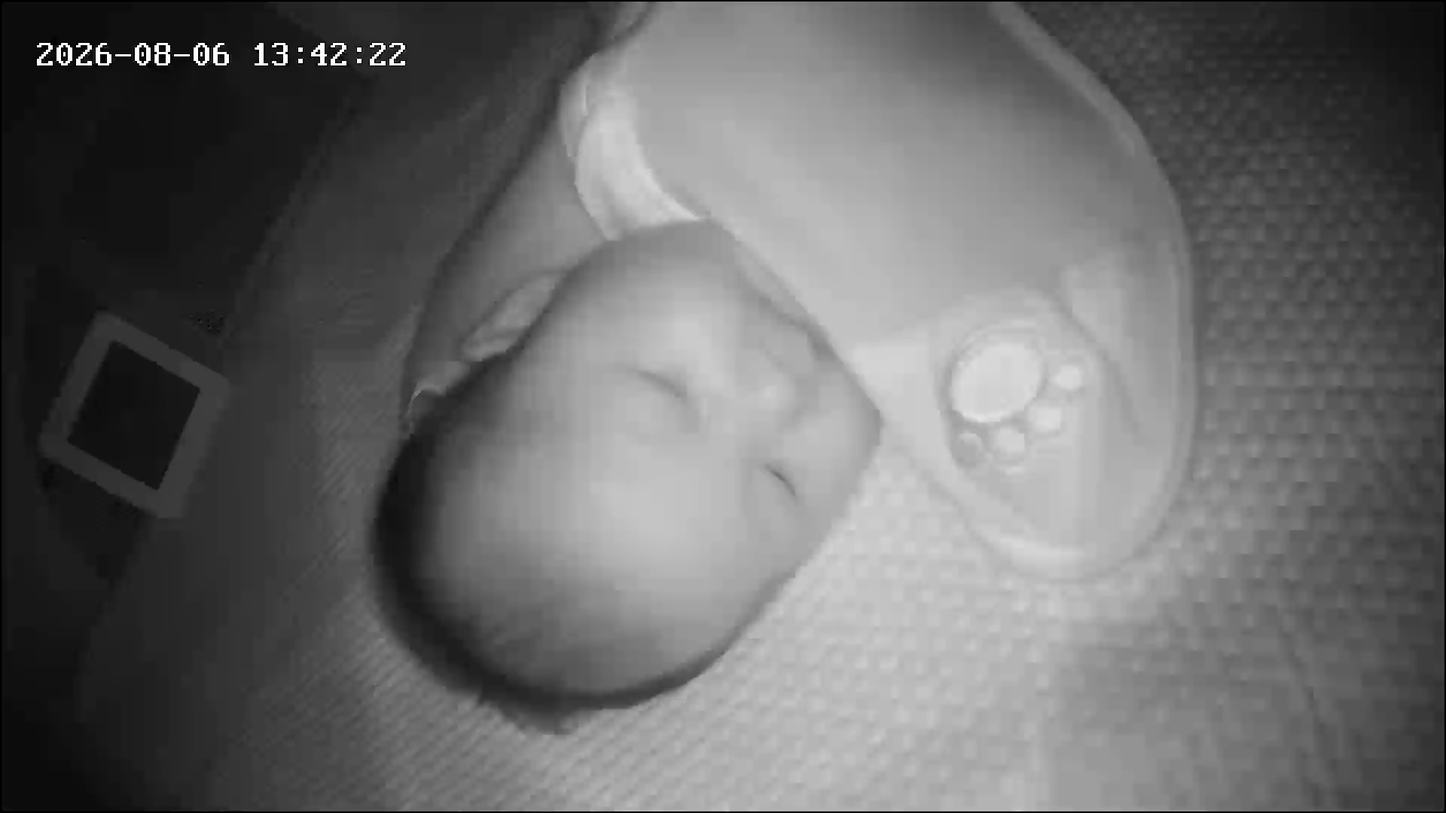baby: (340, 3, 1249, 733)
baby_face: (373, 217, 903, 718)
